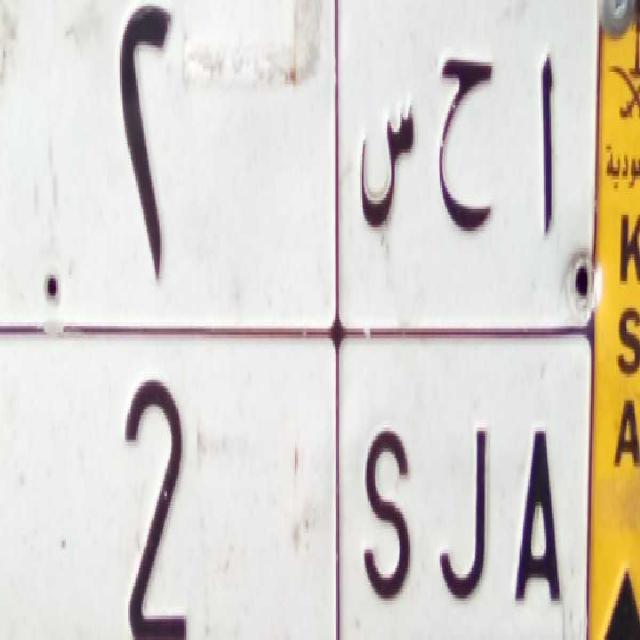license_plate: (0, 319, 592, 640)
